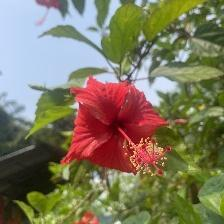hibiscus: (64, 73, 179, 187)
